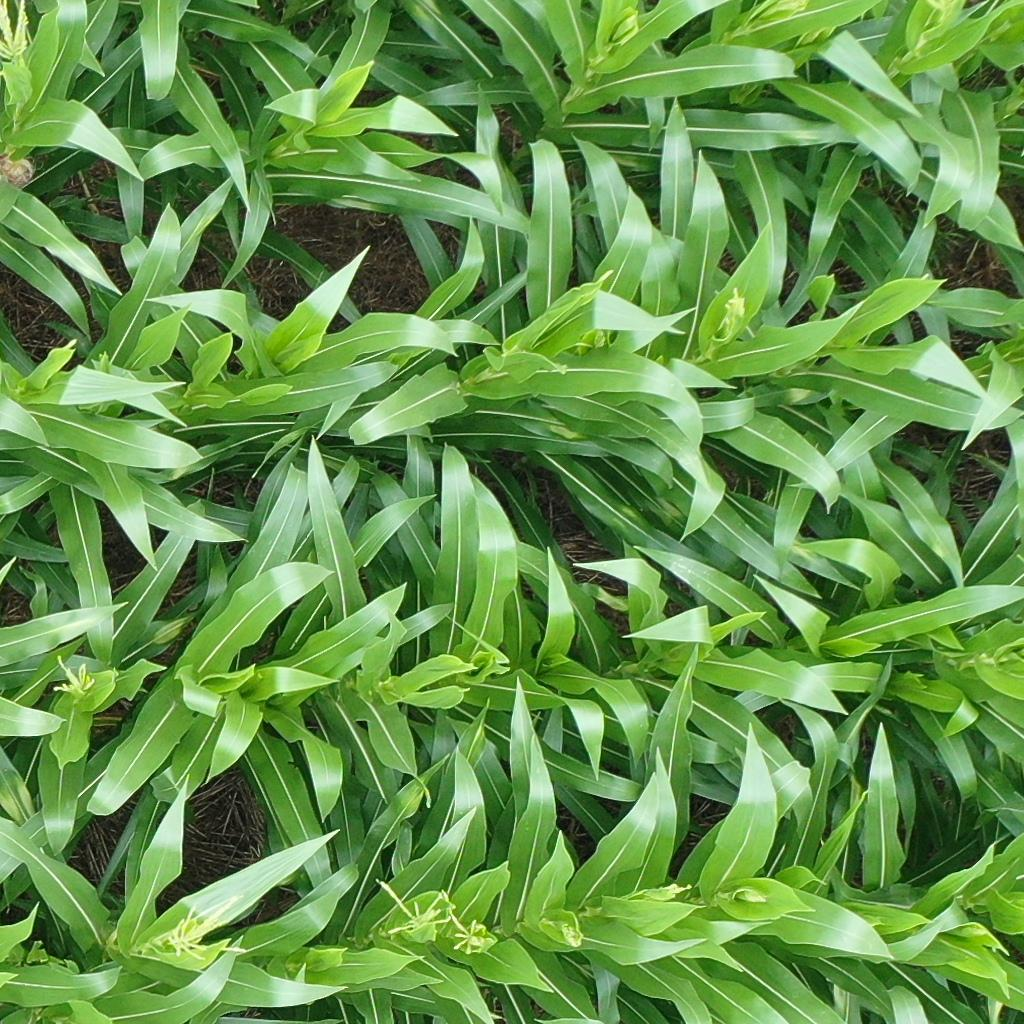Tassel: (161, 905, 247, 967), (370, 879, 448, 941), (451, 905, 496, 954), (52, 649, 97, 698), (1, 1, 32, 69), (715, 285, 750, 341), (542, 912, 587, 949), (636, 881, 693, 904), (748, 1, 805, 19), (737, 891, 771, 908)
